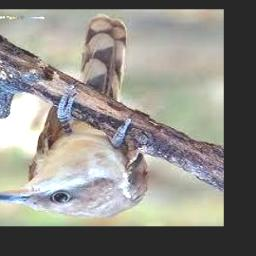Cuckoo: (0, 18, 150, 219)
